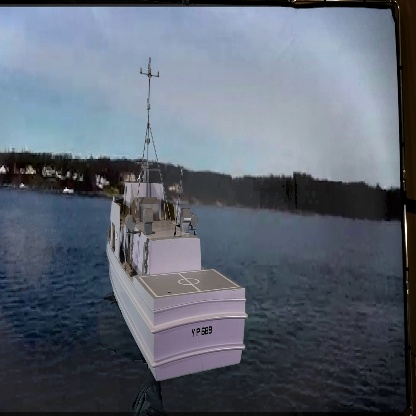YP689: (106, 58, 249, 380)
